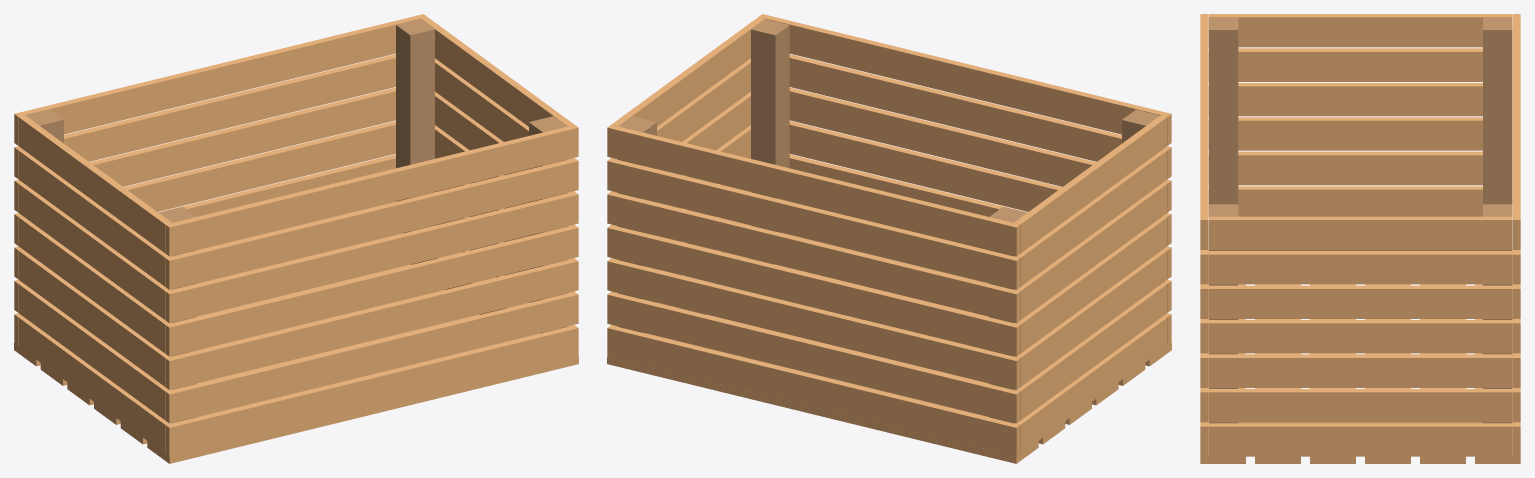
3 views of the same model, side by side, from view 1: azimuth 30°, elevation 25°; view 2: azimuth 150°, elevation 25°; view 3: azimuth 270°, elevation 25° (orthographic). The views are drawn at different scales.
Parts seen in each view (by area): view 1: crates.014; view 2: crates.014; view 3: crates.014.
Boxes of the visible parts, left/top/right/bottom form: crates.014: left=14, top=14, right=578, bottom=463; crates.014: left=607, top=14, right=1171, bottom=463; crates.014: left=1200, top=14, right=1520, bottom=463.
Size of the model in its own units: 411 by 227 by 271.
